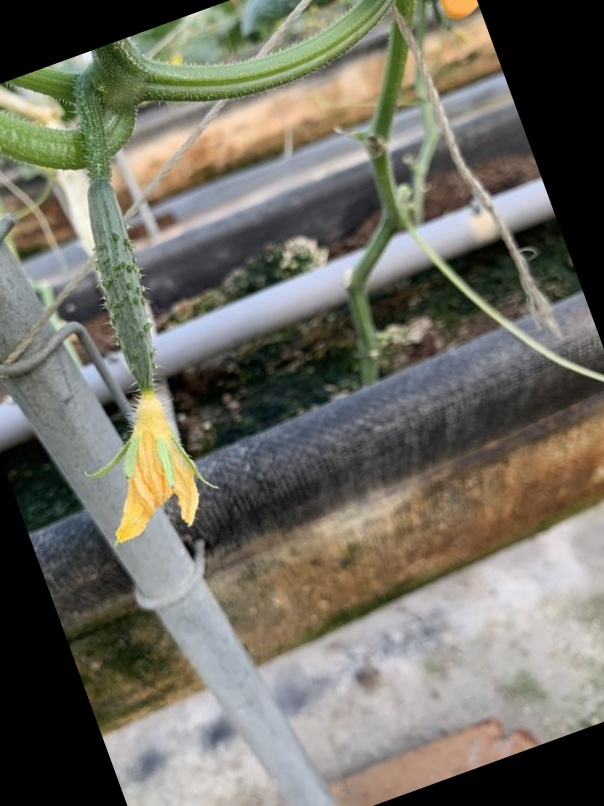bear: (65, 165, 229, 540)
